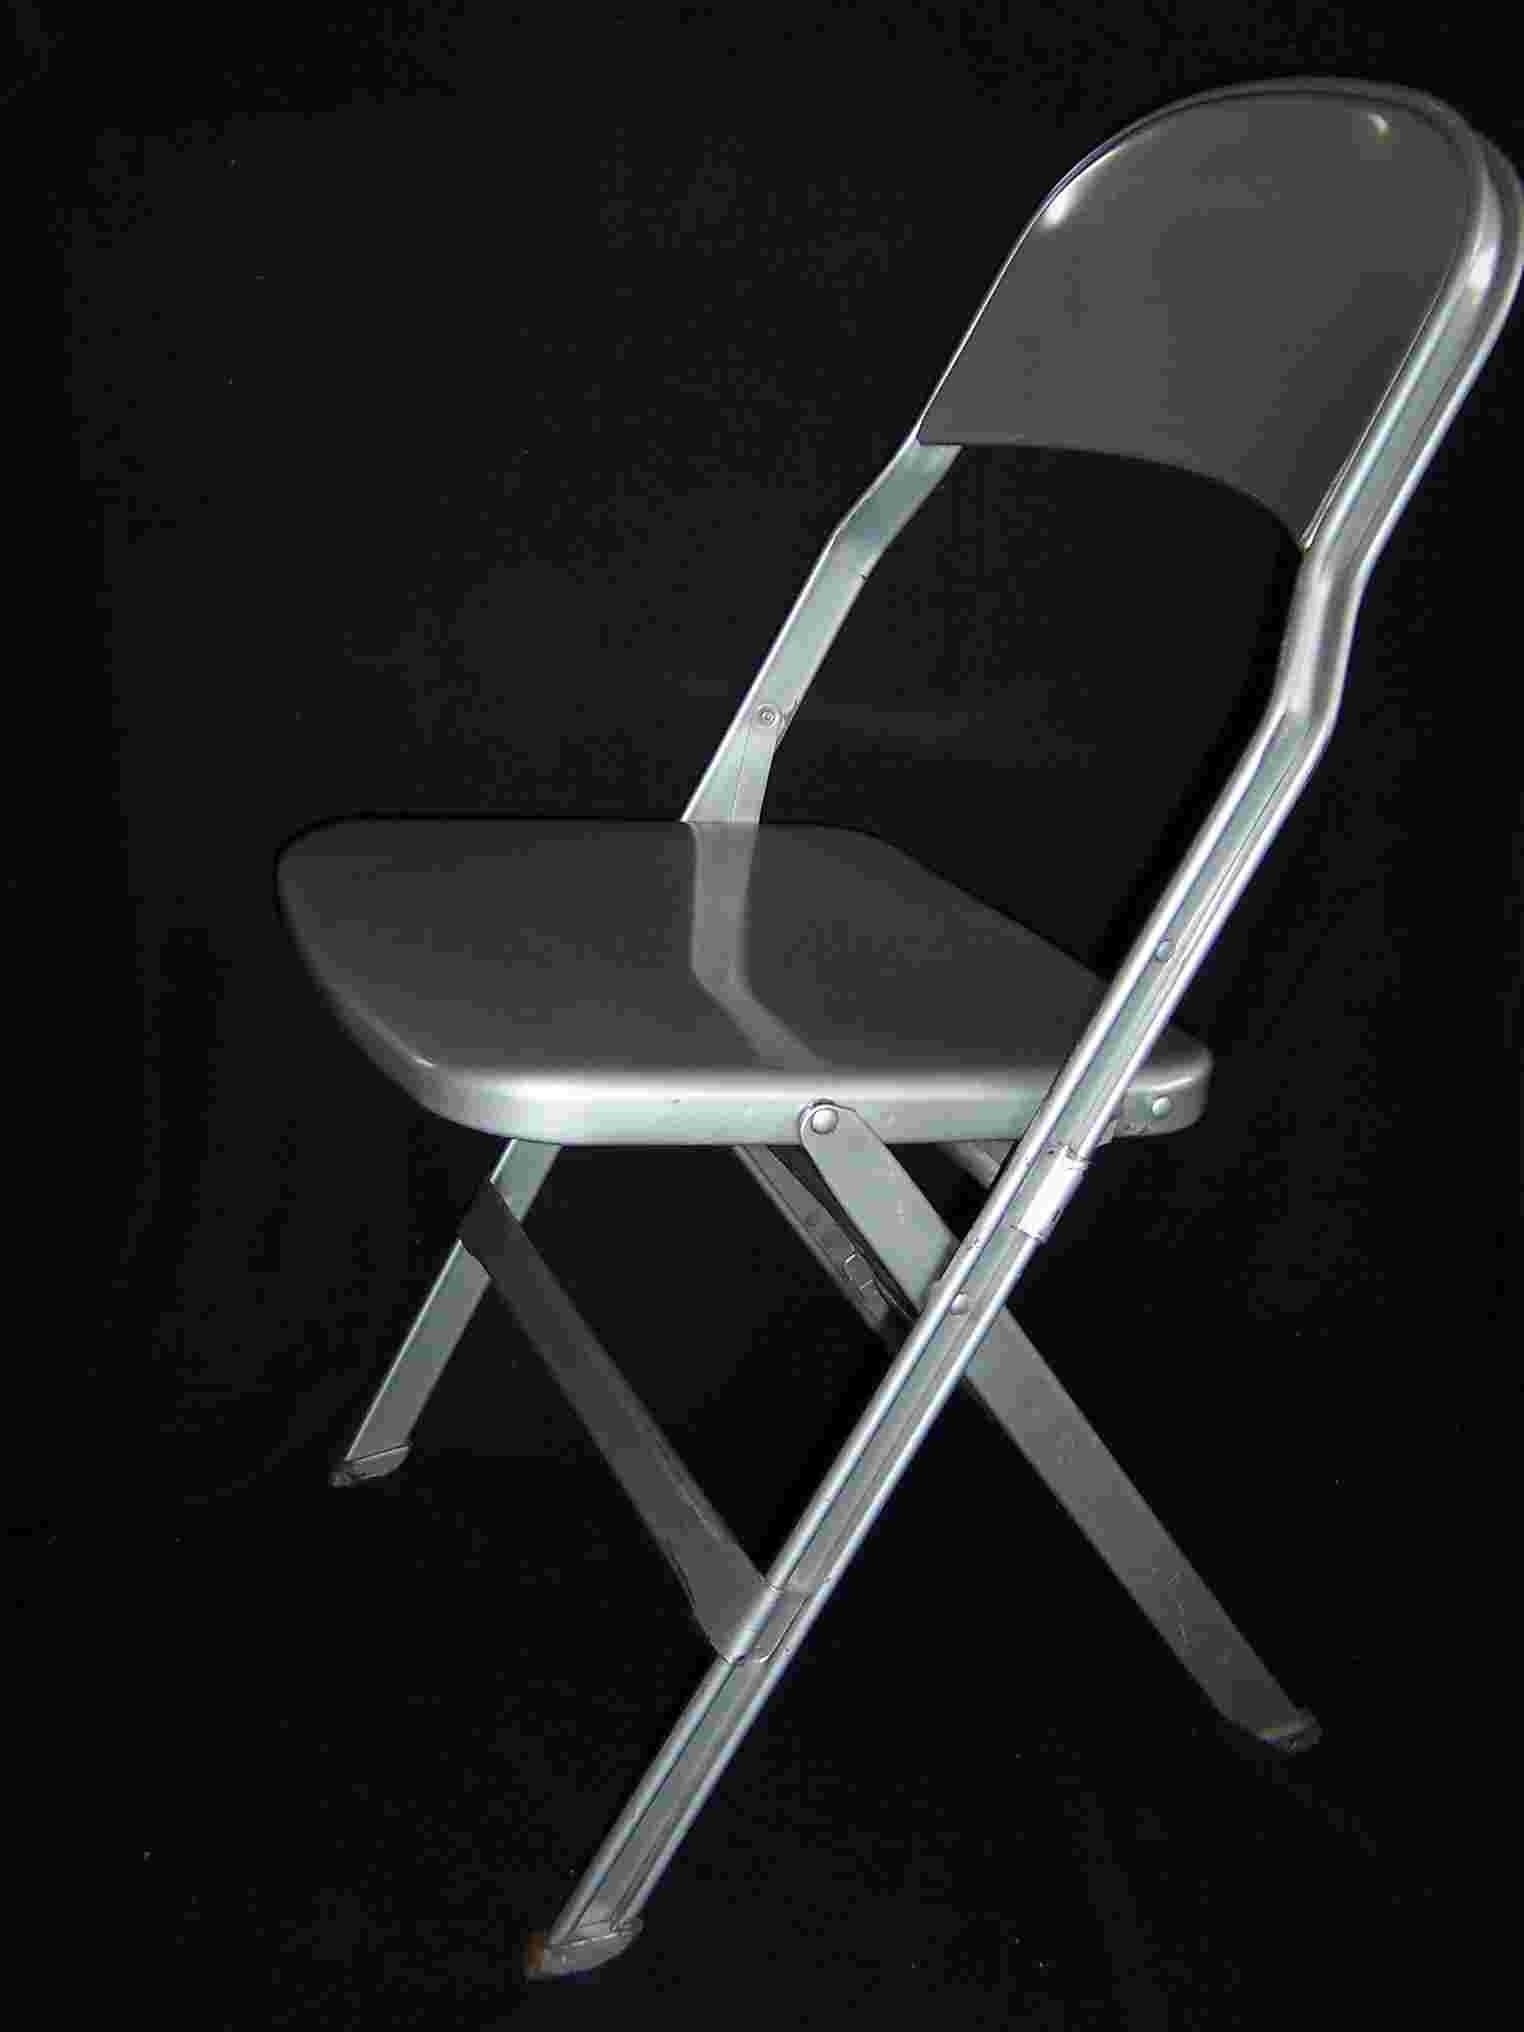obstacle: (279, 78, 1519, 1978)
